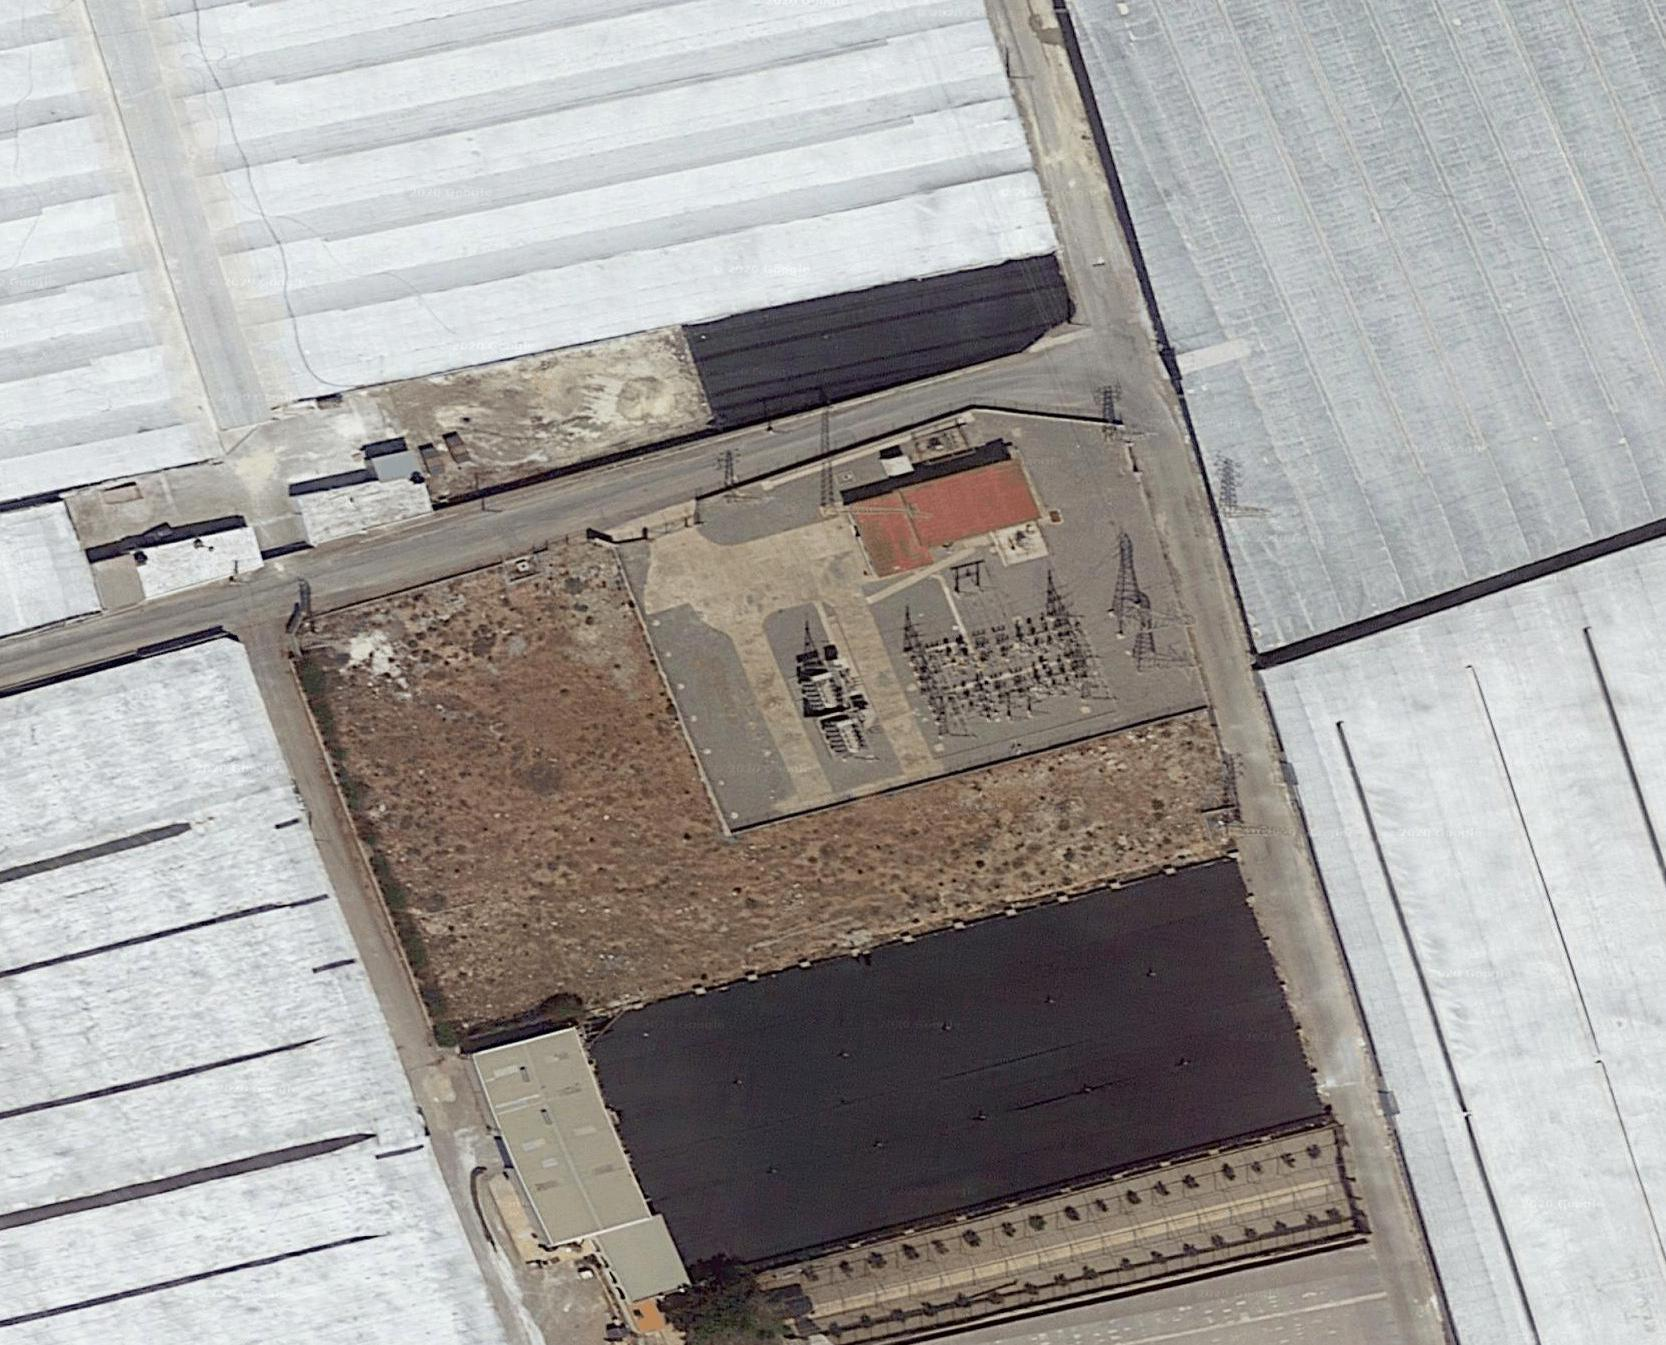substation: (788, 522, 1161, 769)
